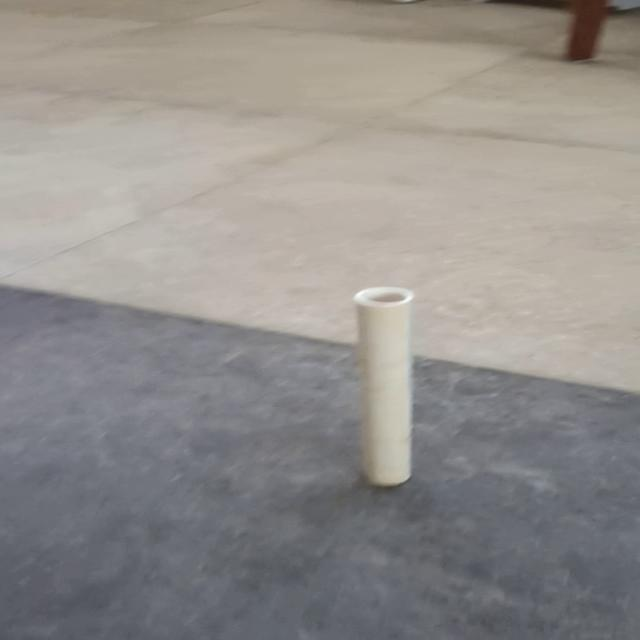Cube: (351, 286, 415, 487)
